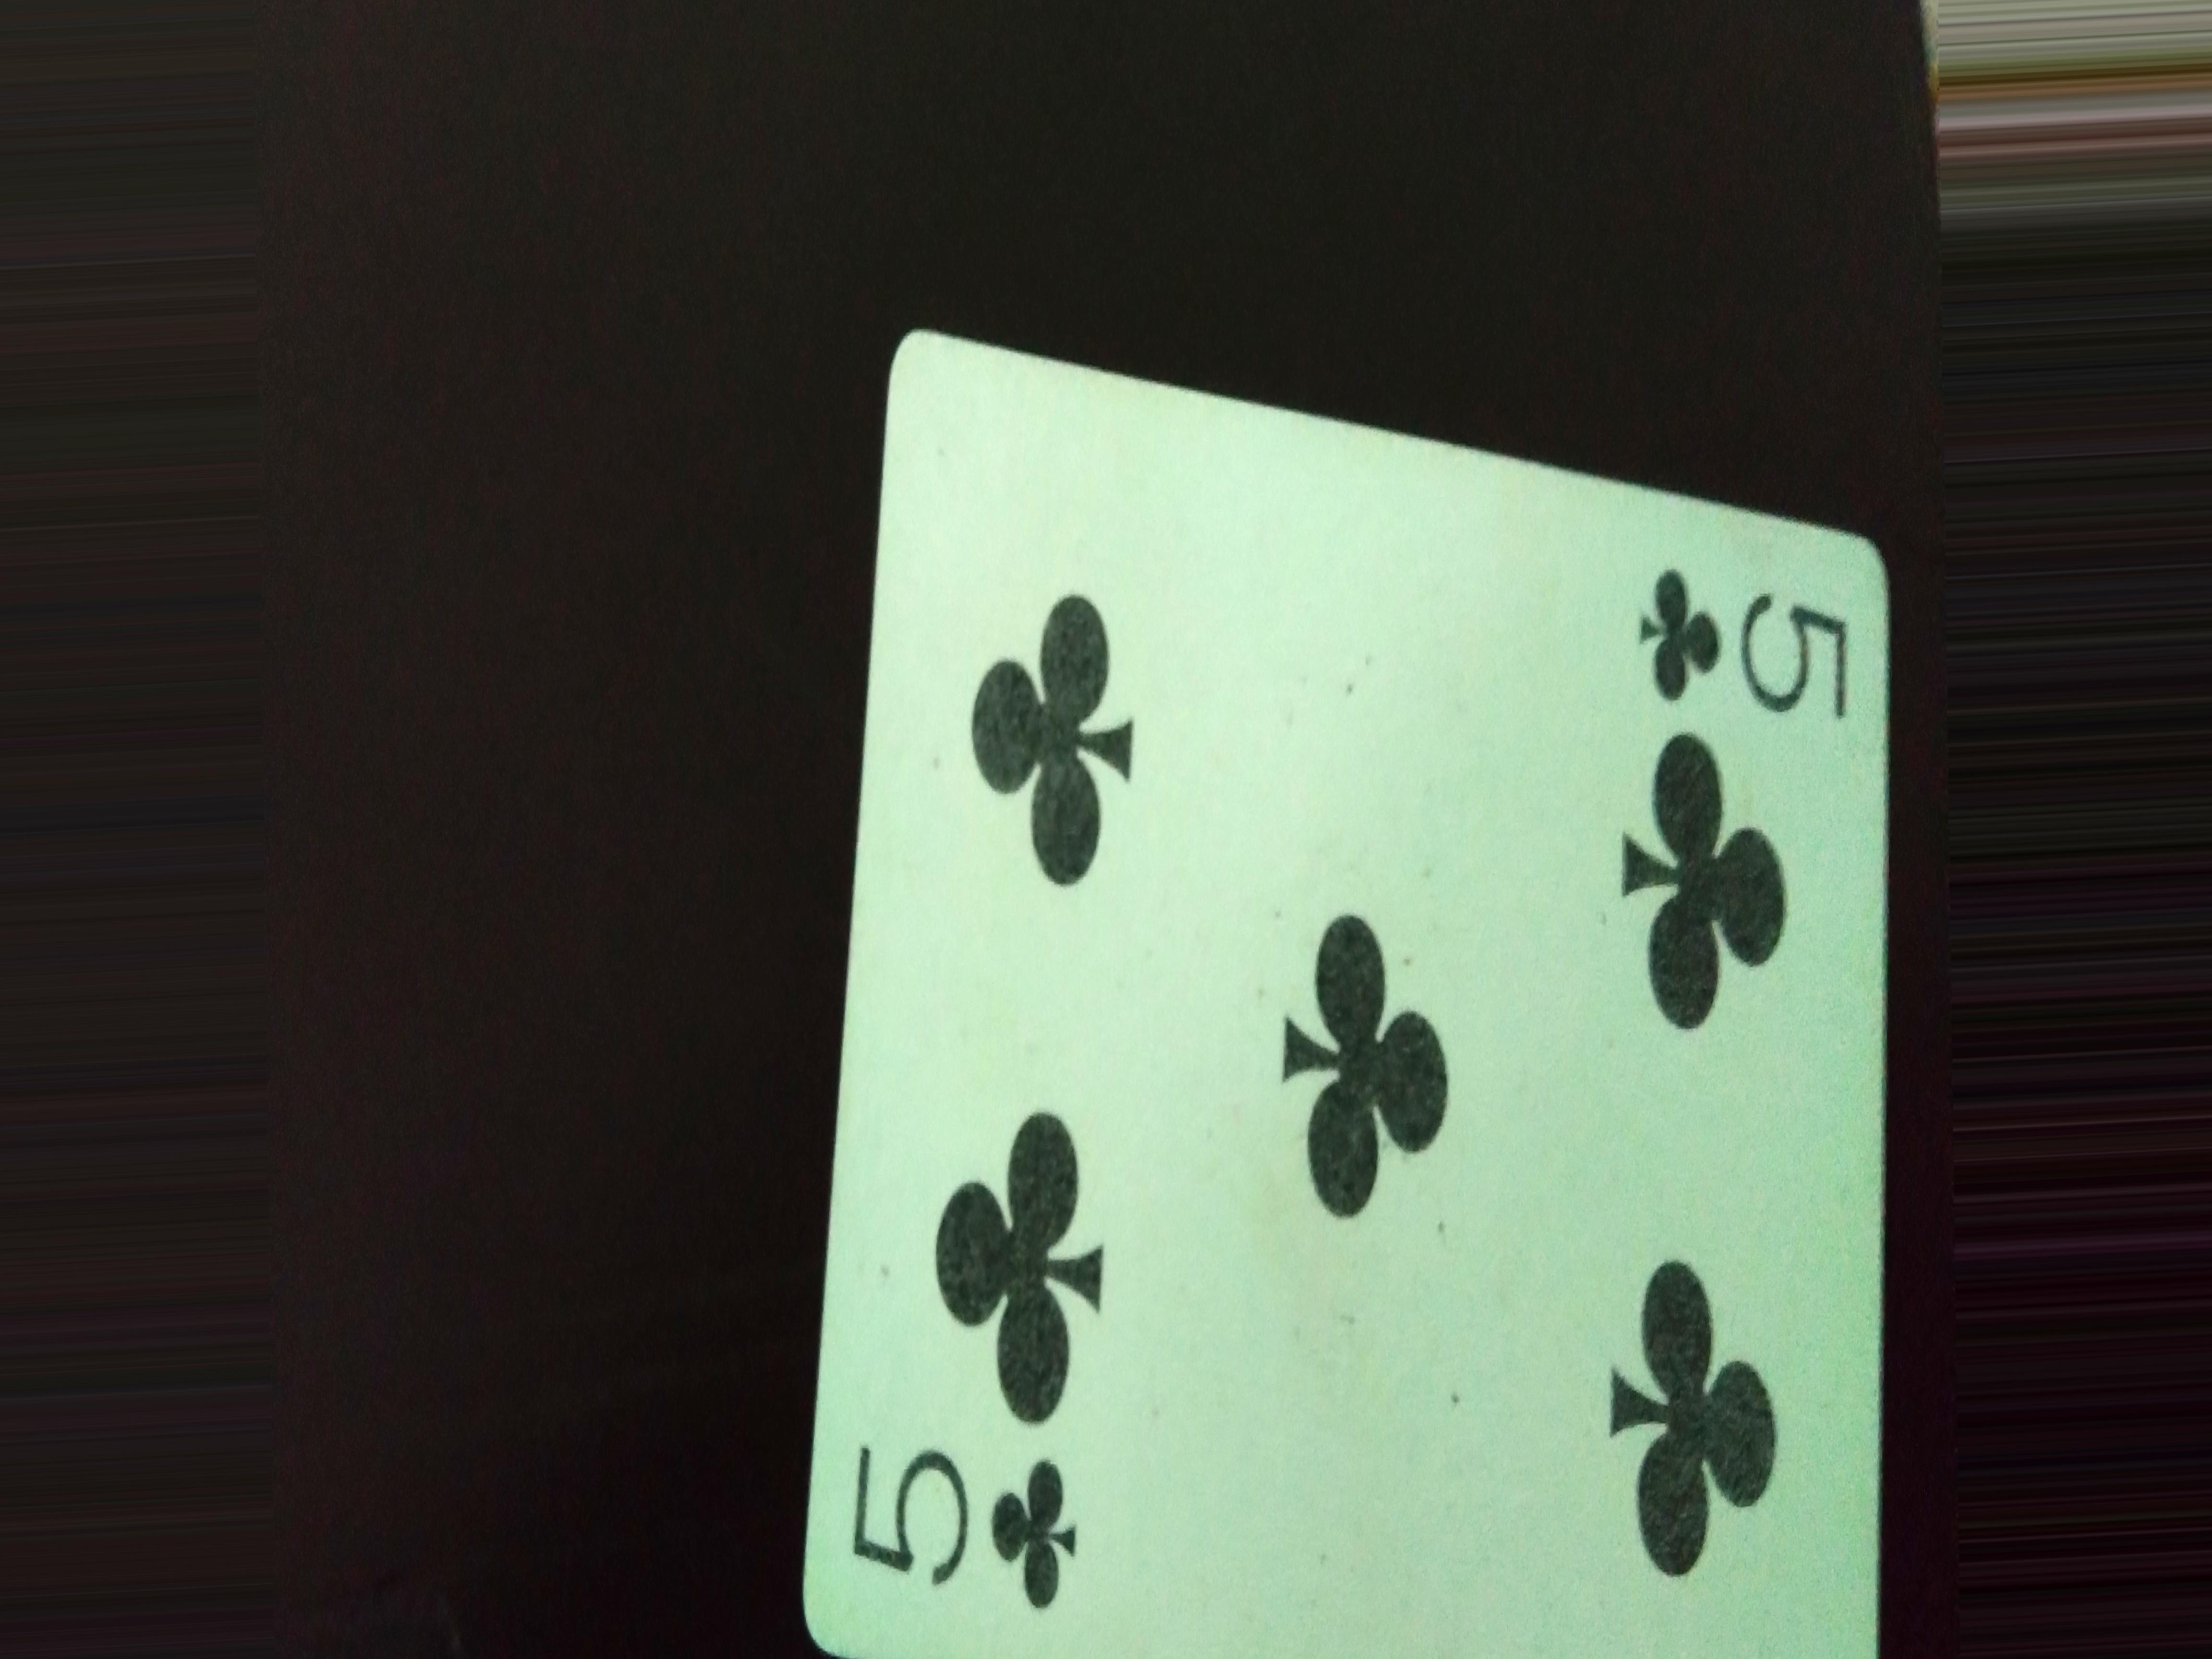5C: (1625, 558, 1874, 728)
